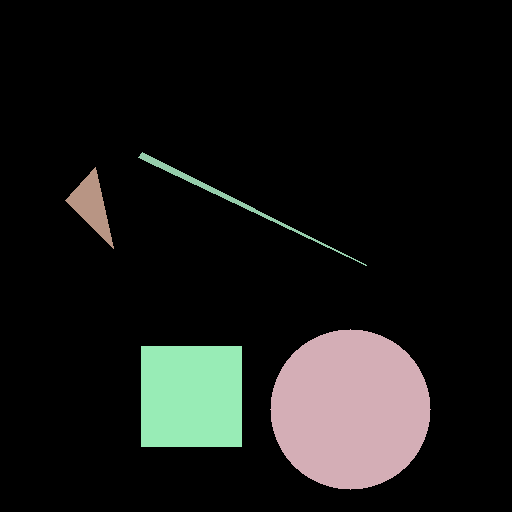circle: (270, 329, 430, 489)
square: (141, 346, 241, 446)
triangle: (65, 167, 113, 248)
